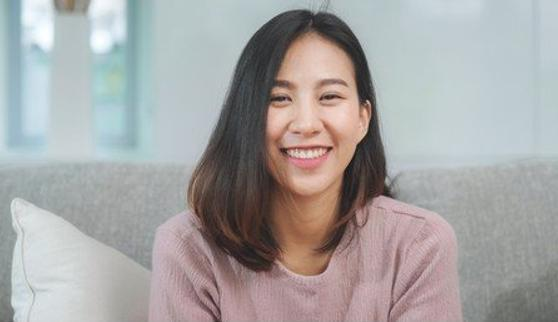Sober: (268, 54, 354, 182)
